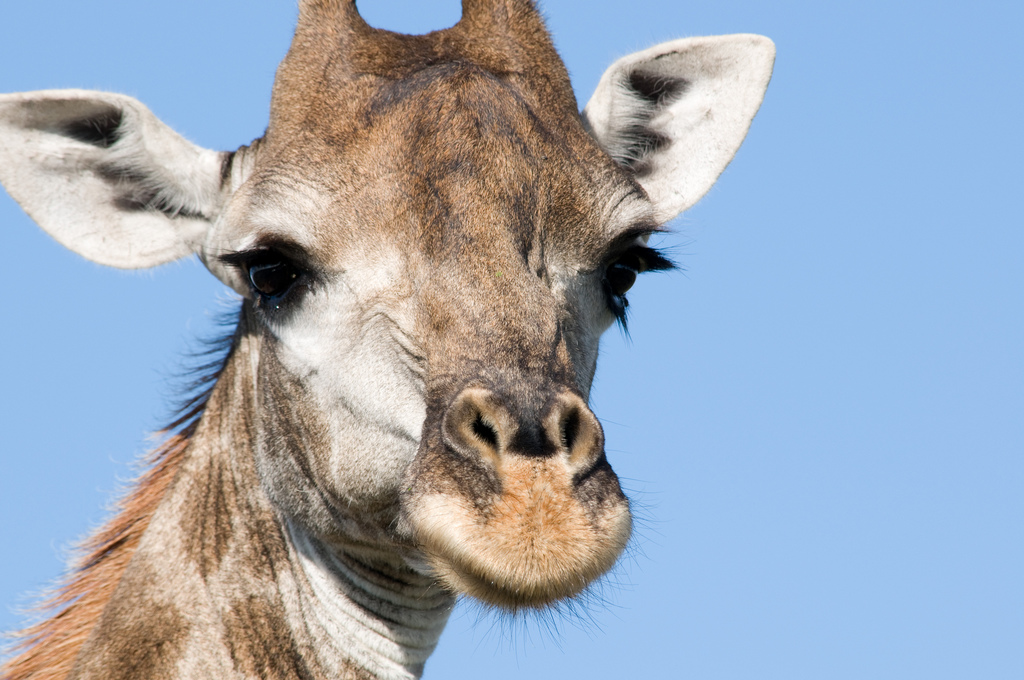giraffe: (90, 9, 795, 639)
